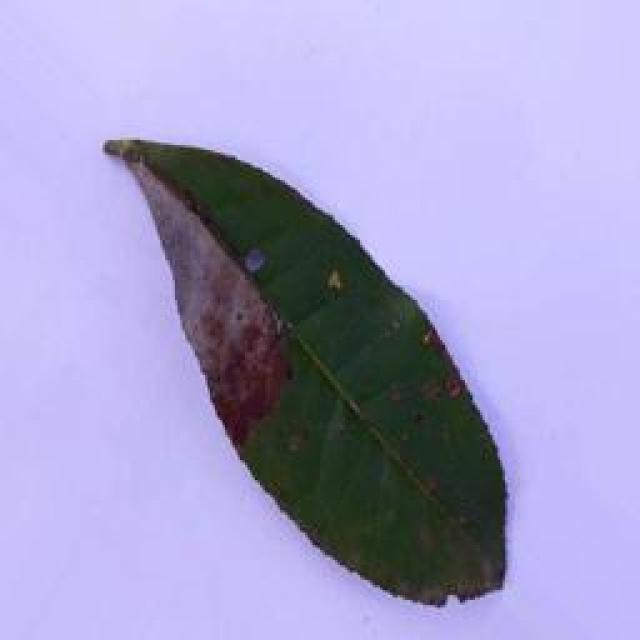Gray Blight: (99, 136, 509, 606)
